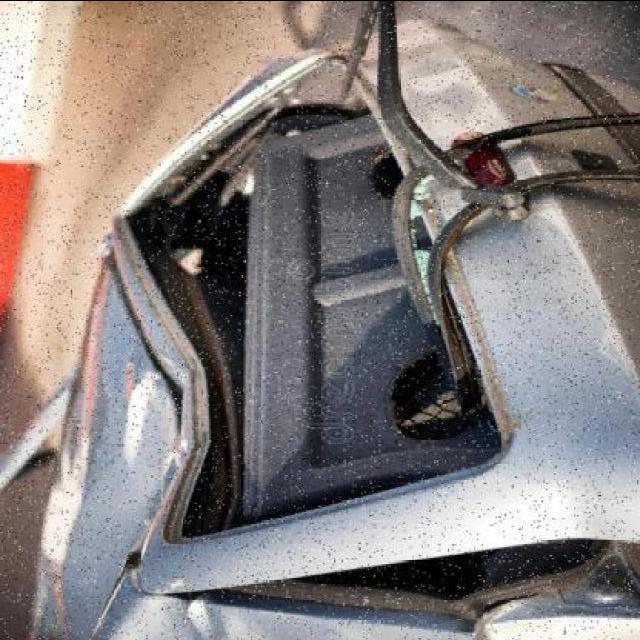roof-dent: (0, 229, 212, 640)
